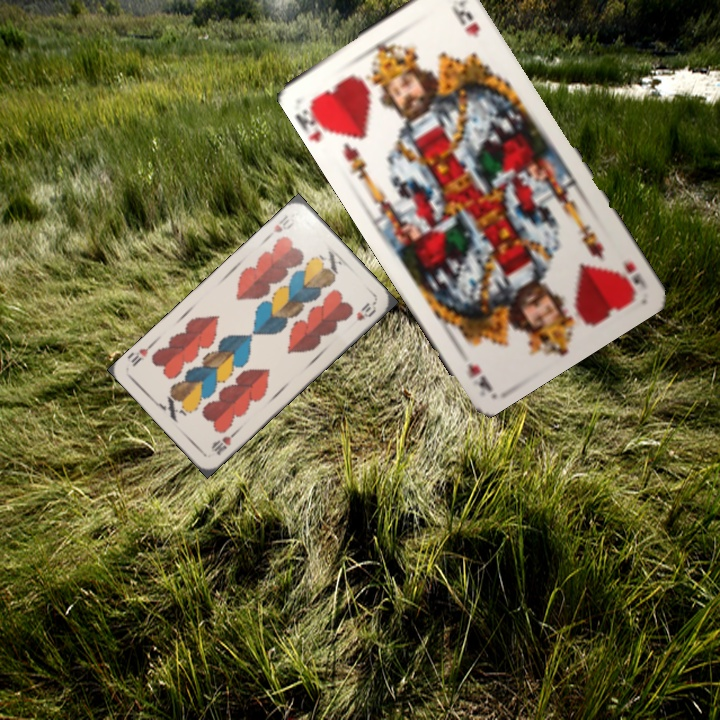H10: (263, 211, 297, 242), (207, 427, 240, 458)
HK: (294, 94, 339, 139), (618, 257, 649, 290)
